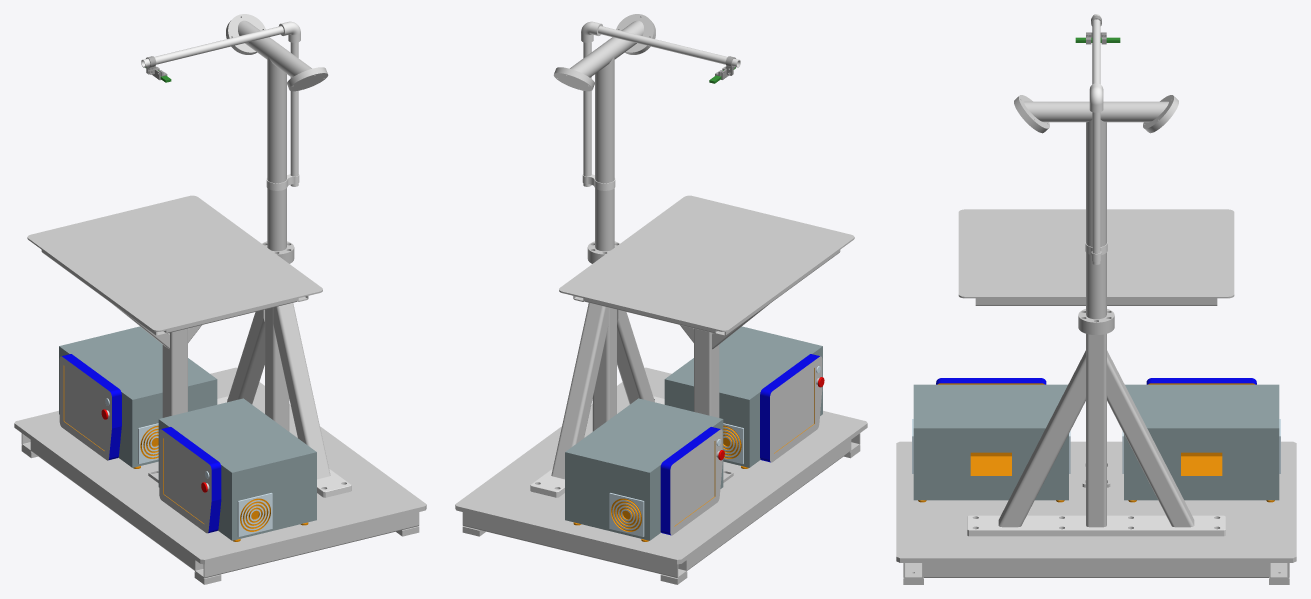
File: dual_arm_workshop.dae
The picture shows the model from 3 angles, left to right: view 1: azimuth 30°, elevation 25°; view 2: azimuth 150°, elevation 25°; view 3: azimuth 270°, elevation 25°; orthographic projection. The views are drawn at different scales.
Visible parts, largest first — view 1: _model1 (×14); view 2: _model1 (×14); view 3: _model1 (×13).
Part boxes in pixels (left/top/right/bottom): _model1 (×14): left=14, top=14, right=426, bottom=584; _model1 (×14): left=455, top=14, right=867, bottom=584; _model1 (×13): left=896, top=14, right=1296, bottom=577.
Bounding box in the file's own units: 860 × 1160 × 1530.
